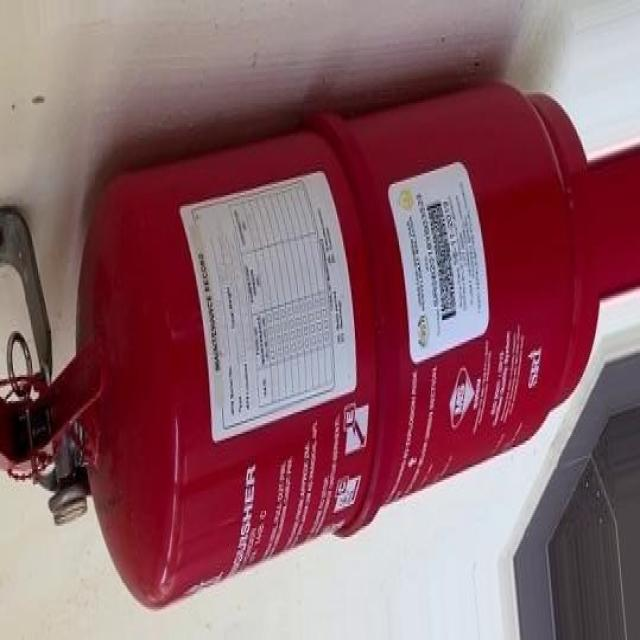fire_extinguisher: (0, 75, 604, 617)
